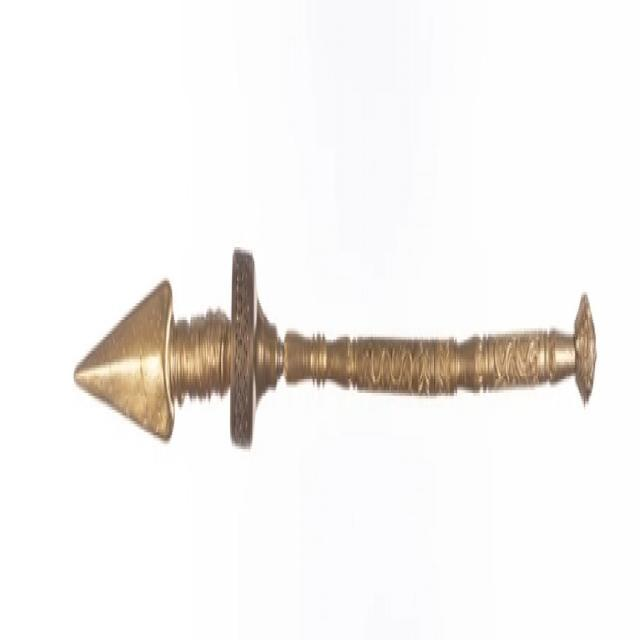spear: (65, 202, 606, 498)
